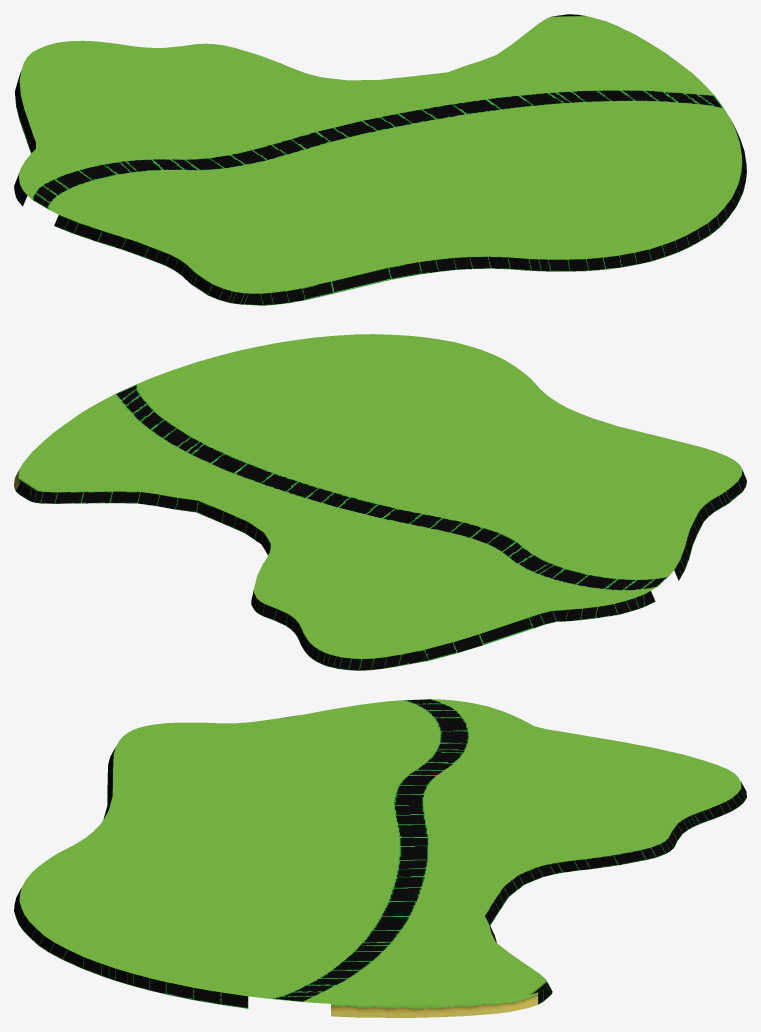
The model's file is top.fbx.
3 renders of one model, top to bottom at view 1: azimuth 30°, elevation 25°; view 2: azimuth 150°, elevation 25°; view 3: azimuth 270°, elevation 25°, orthographic. The views are drawn at different scales.
Visible parts, largest first — view 1: Top; view 2: Top; view 3: Top.
Boxes of the visible parts, x1,y1,x2,y2 form: Top: (14, 14, 746, 305); Top: (14, 334, 746, 670); Top: (14, 699, 746, 1017).
Size of the model in its own units: 658 by 10.03 by 656.
Materials: 1 (1 with a texture image).
